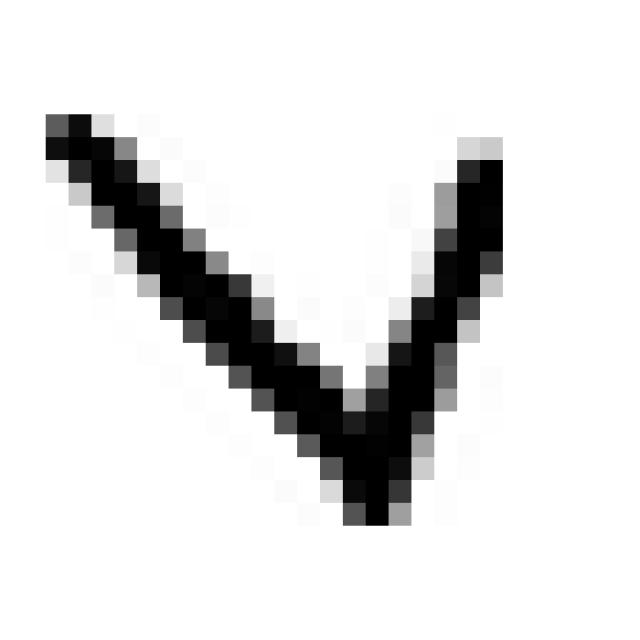7 -seven-: (25, 91, 528, 546)
